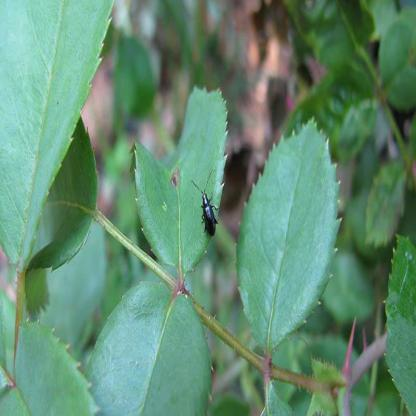beetle: (192, 176, 220, 247)
